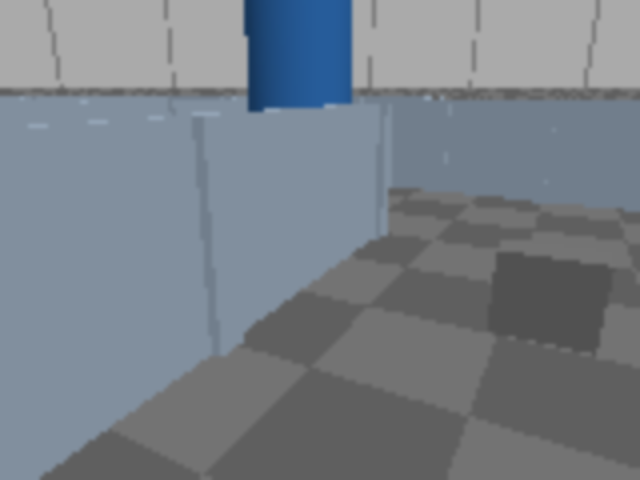obstacle: (487, 238, 615, 355)
